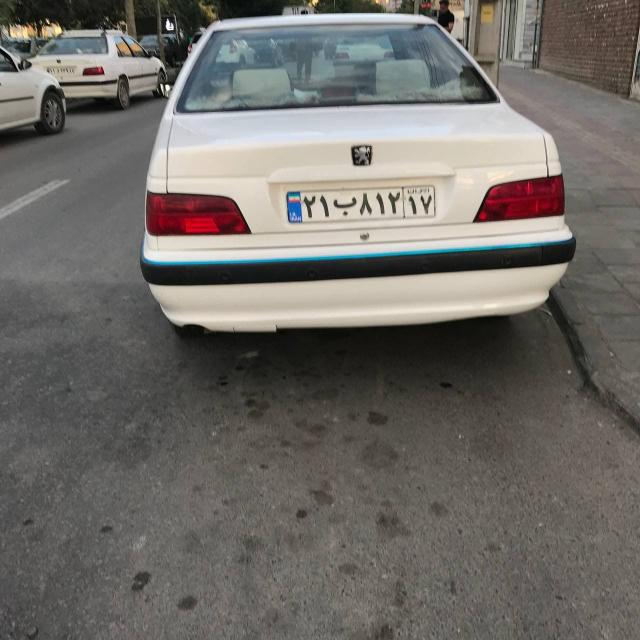Plates: (286, 185, 435, 223)
